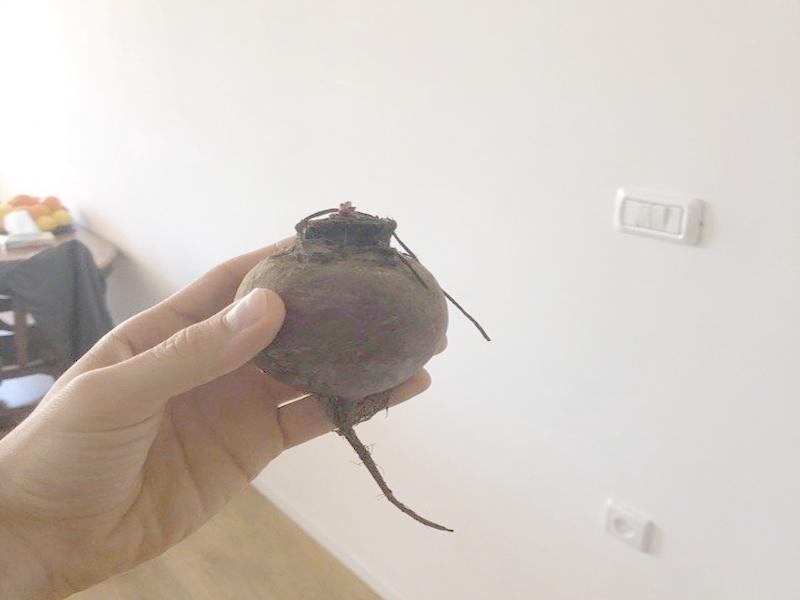Beet: (232, 202, 493, 532)
